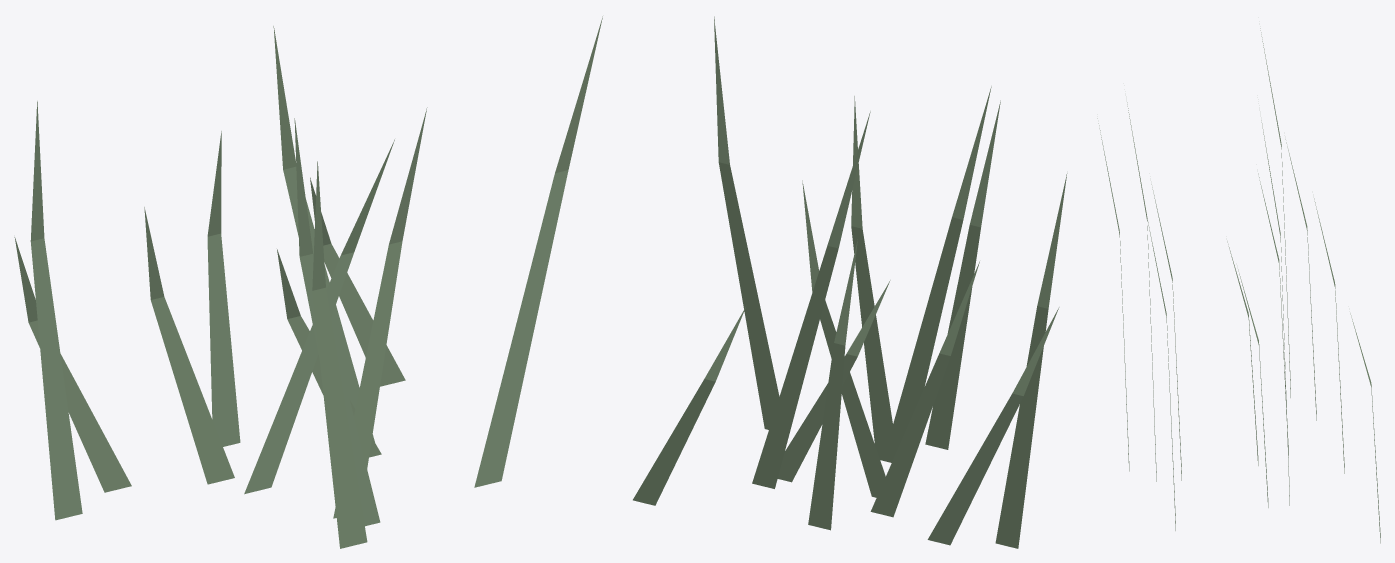
File: tall_grass_variant_01.glb
3 views of the same model, side by side, from view 1: azimuth 30°, elevation 25°; view 2: azimuth 150°, elevation 25°; view 3: azimuth 270°, elevation 25° (orthographic). The views are drawn at different scales.
Parts seen in each view (by area): view 1: static_leaf_sage; view 2: static_leaf_sage; view 3: static_leaf_sage.
Boxes of the visible parts, <box> form: static_leaf_sage: <box>14,16,602,548</box>; static_leaf_sage: <box>633,16,1067,548</box>; static_leaf_sage: <box>1097,28,1380,543</box>.
Size of the model in its own units: 0.9893 by 0.8733 by 0.6035.
